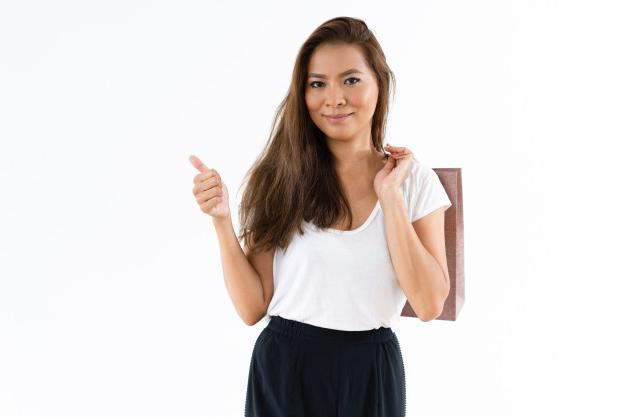thumbsup: (189, 154, 225, 214)
